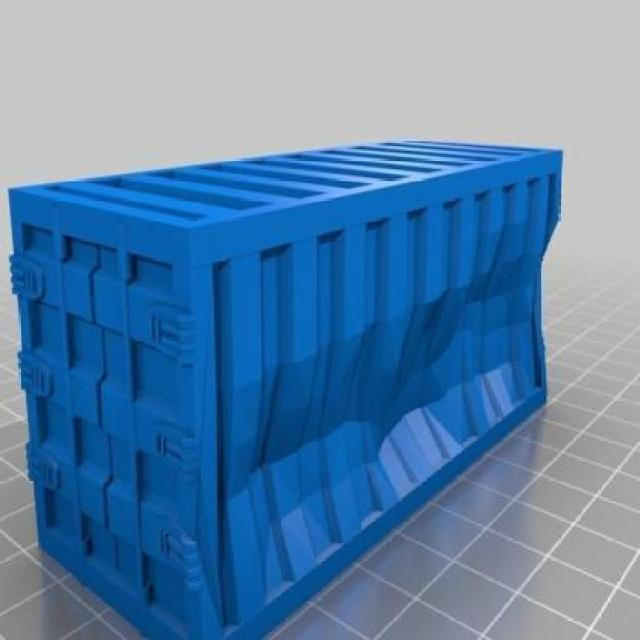dent: (238, 281, 446, 539), (487, 192, 570, 392)
